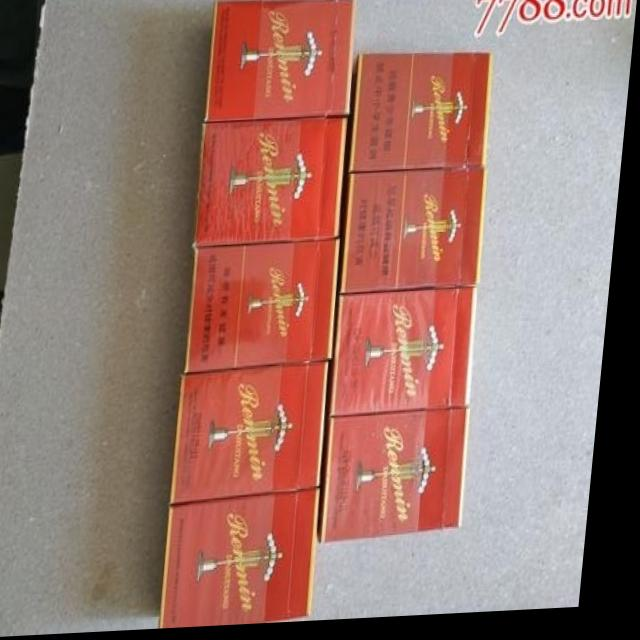box: (172, 492, 330, 631), (181, 364, 335, 506), (192, 243, 345, 377), (199, 120, 351, 250), (332, 413, 479, 546), (339, 292, 484, 422), (206, 1, 357, 124), (347, 174, 491, 299), (352, 58, 495, 176)
